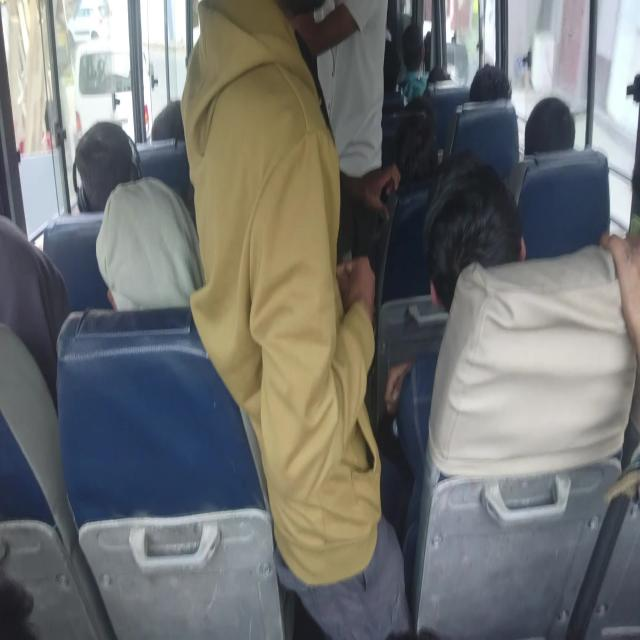person: (184, 0, 372, 497), (312, 0, 397, 143), (0, 217, 60, 381), (426, 179, 508, 280), (119, 185, 188, 304), (74, 117, 139, 205), (445, 63, 522, 114), (404, 104, 446, 187), (153, 103, 202, 159), (524, 111, 569, 158), (385, 34, 407, 95), (402, 27, 428, 67), (430, 61, 453, 97)
